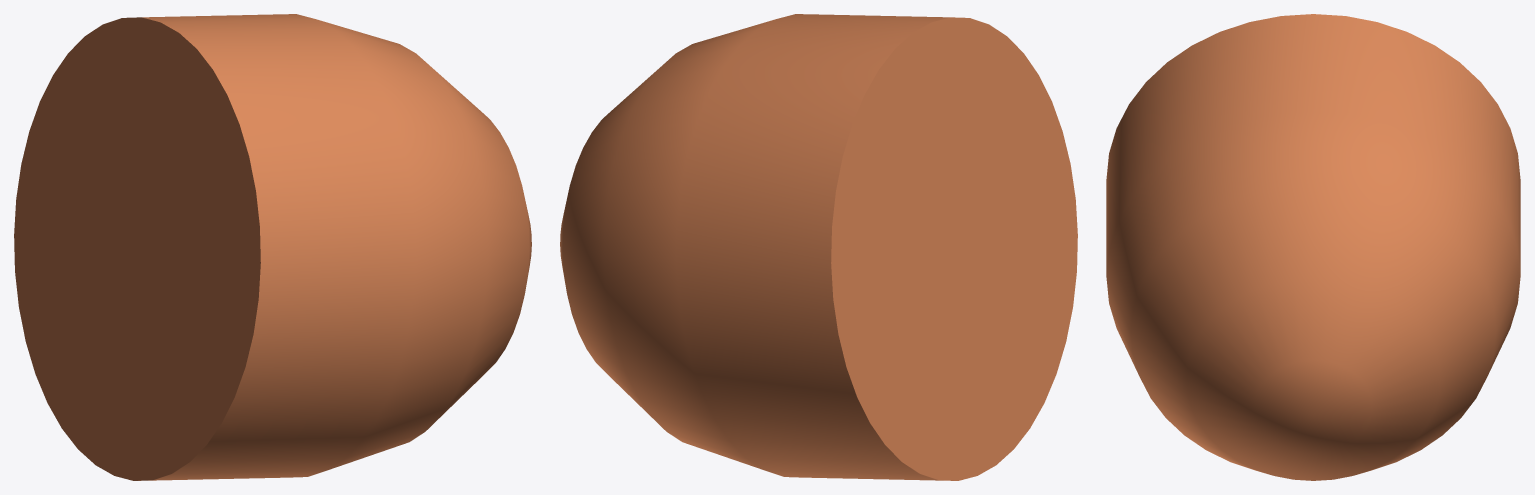
Rendered from bala_comum.obj.
3 views of the same model, side by side, from view 1: azimuth 30°, elevation 25°; view 2: azimuth 150°, elevation 25°; view 3: azimuth 270°, elevation 25° (orthographic). The views are drawn at different scales.
Size of the model in its own units: 0.0522 by 0.0538 by 0.0508.
